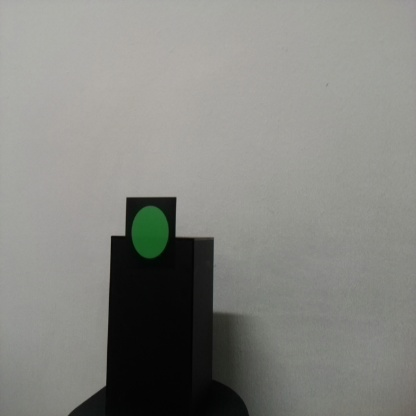id_5: (126, 198, 176, 275)
